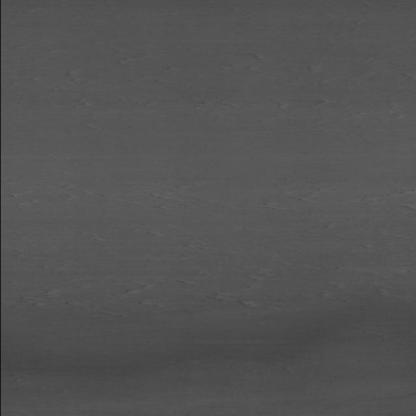silk_spot: (179, 258, 283, 330), (54, 264, 159, 327), (290, 174, 390, 234)
